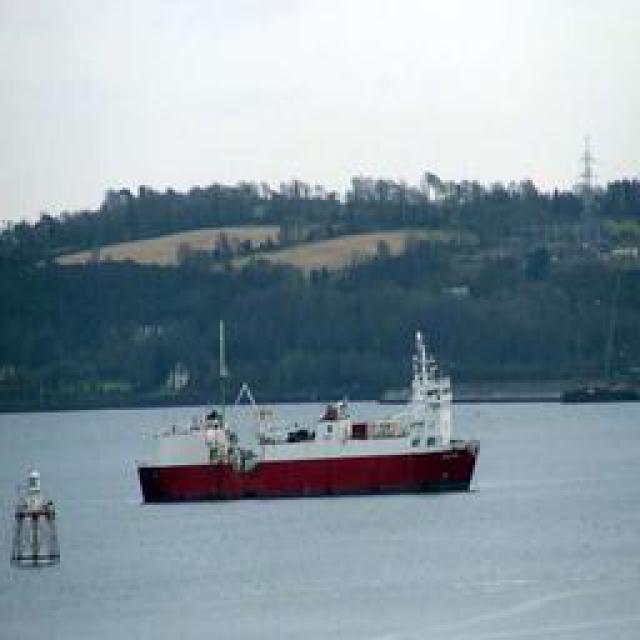Ship: (140, 332, 480, 505)
